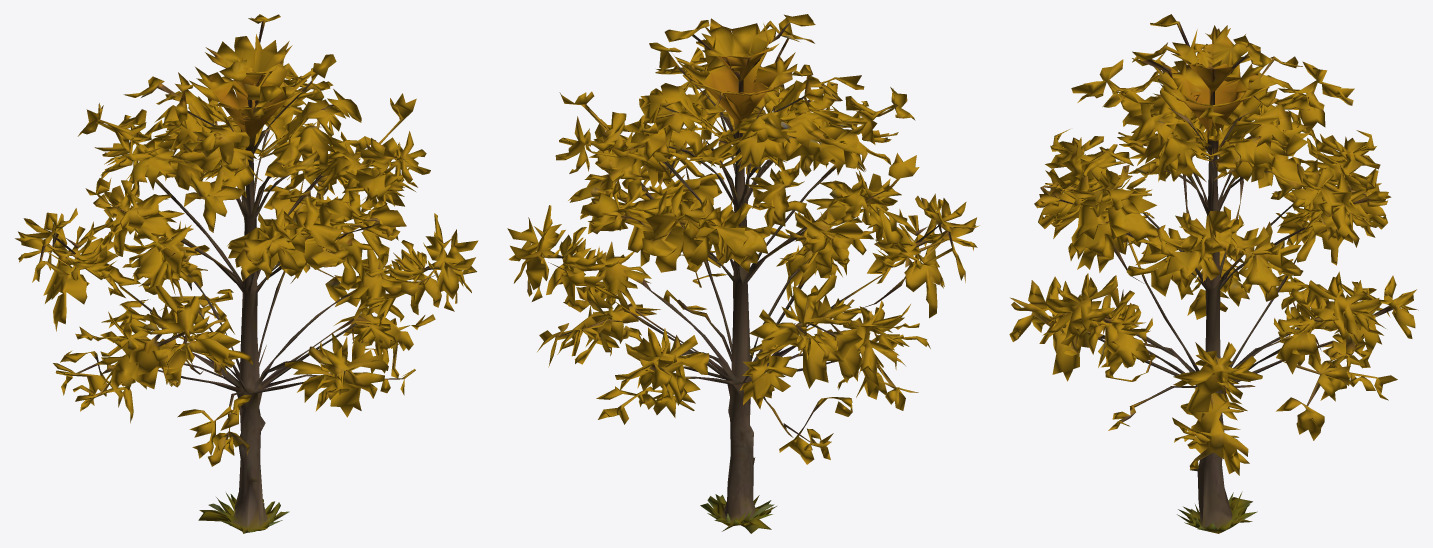
Rendered from yellow.glb.
The picture shows the model from 3 angles, left to right: view 1: azimuth 30°, elevation 25°; view 2: azimuth 150°, elevation 25°; view 3: azimuth 270°, elevation 25°; orthographic projection. The views are drawn at different scales.
Parts seen in each view (by area): view 1: tripo_node_be561e00-8289-45c9-aaac-b61004b8fc62; view 2: tripo_node_be561e00-8289-45c9-aaac-b61004b8fc62; view 3: tripo_node_be561e00-8289-45c9-aaac-b61004b8fc62.
Boxes of the visible parts, x1,y1,x2,y2 form: tripo_node_be561e00-8289-45c9-aaac-b61004b8fc62: [15, 14, 478, 533]; tripo_node_be561e00-8289-45c9-aaac-b61004b8fc62: [507, 14, 979, 533]; tripo_node_be561e00-8289-45c9-aaac-b61004b8fc62: [1009, 14, 1418, 533].
Bounding box in the file's own units: 0.7413 × 1 × 0.7438.
Materials: 1 (1 with a texture image).
